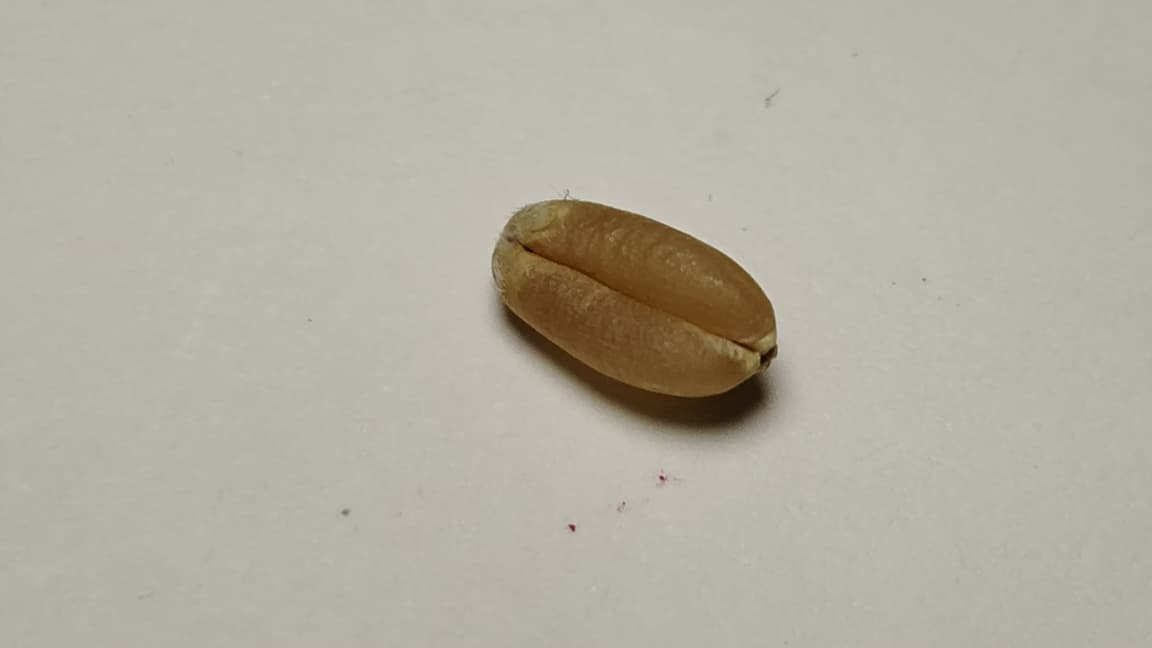healthy: (493, 198, 776, 396)
